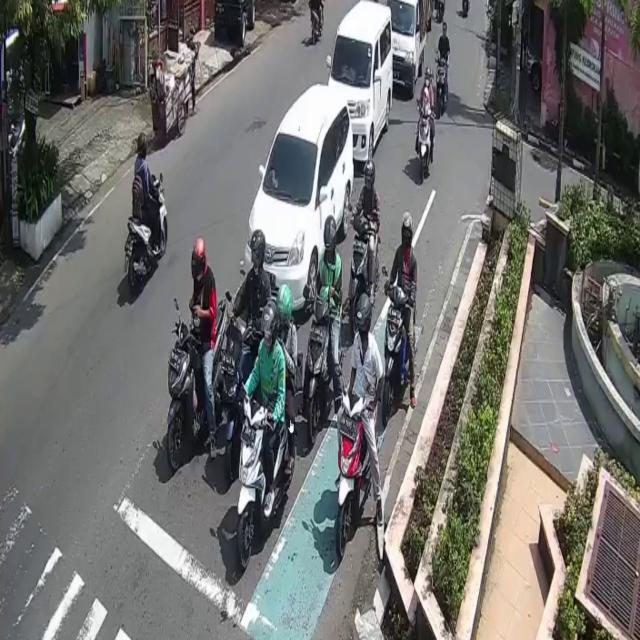car: (243, 81, 354, 319), (329, 0, 394, 162), (388, 0, 427, 94)
motorbike: (163, 297, 234, 474), (237, 396, 290, 568), (337, 387, 372, 555), (126, 175, 168, 299), (305, 298, 333, 447), (383, 290, 412, 429), (352, 213, 377, 304), (417, 102, 432, 186)
